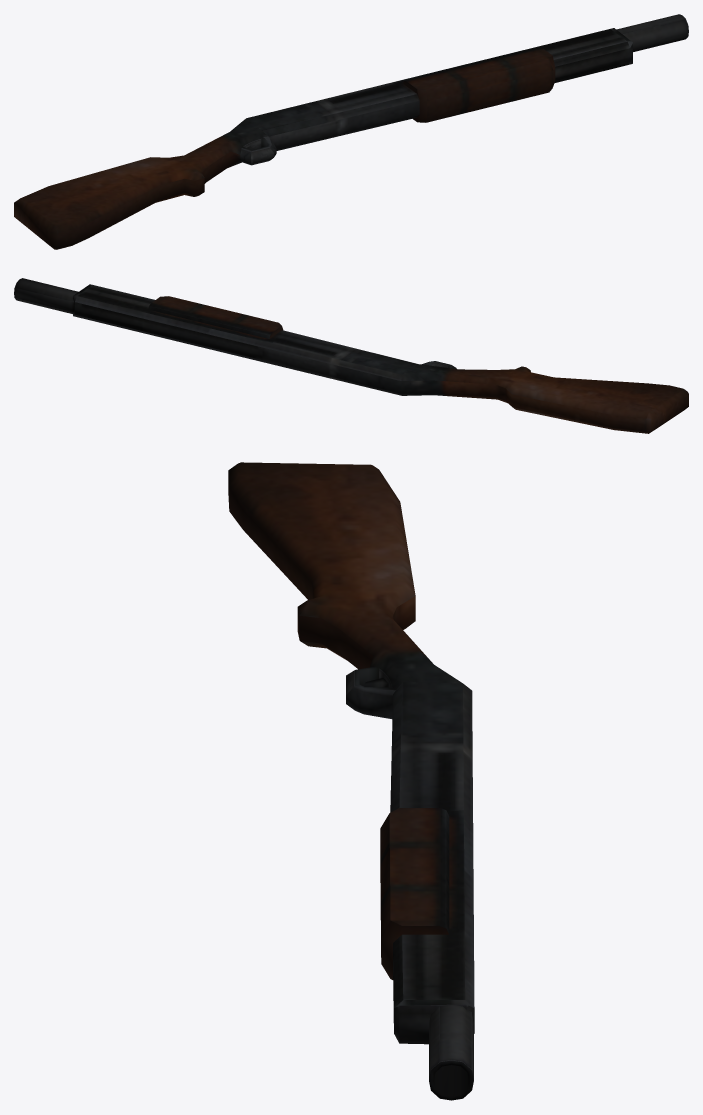
Rendered from shotgun_1.obj.
The picture shows the model from 3 angles, top to bottom: view 1: azimuth 30°, elevation 25°; view 2: azimuth 150°, elevation 25°; view 3: azimuth 270°, elevation 25°; orthographic projection. The views are drawn at different scales.
Parts seen in each view (by area): view 1: shotgun_1; view 2: shotgun_1; view 3: shotgun_1.
Boxes of the visible parts, x1=… form: shotgun_1: x1=14, y1=14, x2=688, y2=249; shotgun_1: x1=14, y1=278, x2=688, y2=433; shotgun_1: x1=228, y1=462, x2=474, y2=1100.
Size of the model in its own units: 1.44 by 0.0655 by 0.2485.
